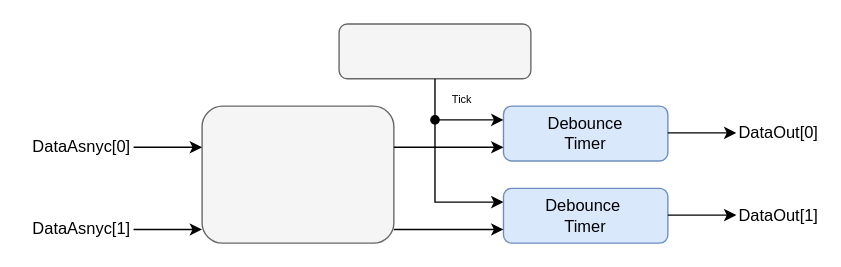
Some shapes in this 841 by 267 pixel diagram are drawn without their labels. Here are the shapes that lost their labels. From the top down, the centre of each, then its label:
(434,51): olo_base_strobe_gen
(297,174): olo_intf_sync
